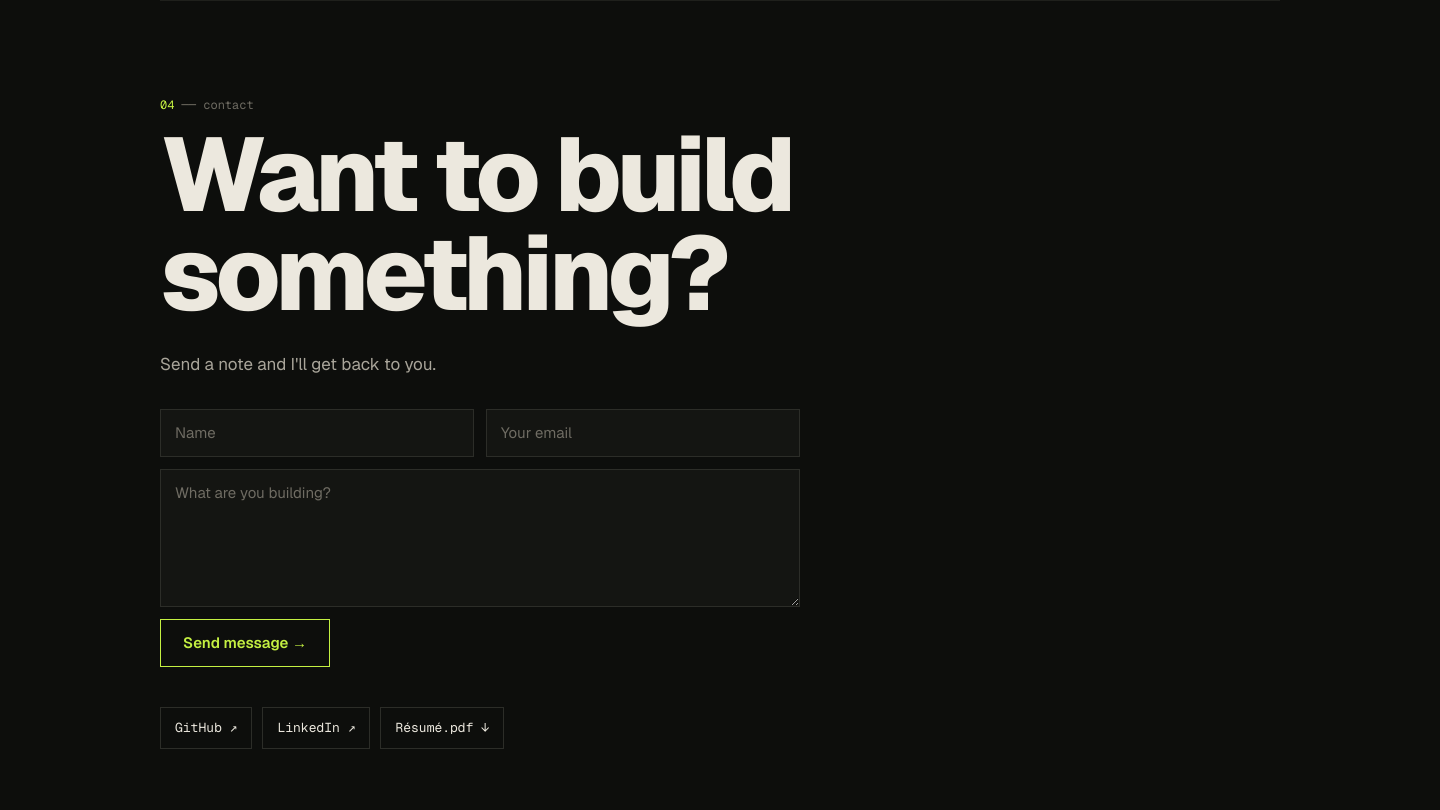
Scenario: Contact › keeps the message and says so when sending fails
Type "Ada" into the field labelled "Name" at point(317, 433), box x1=160 y1=409 x2=474 y2=457
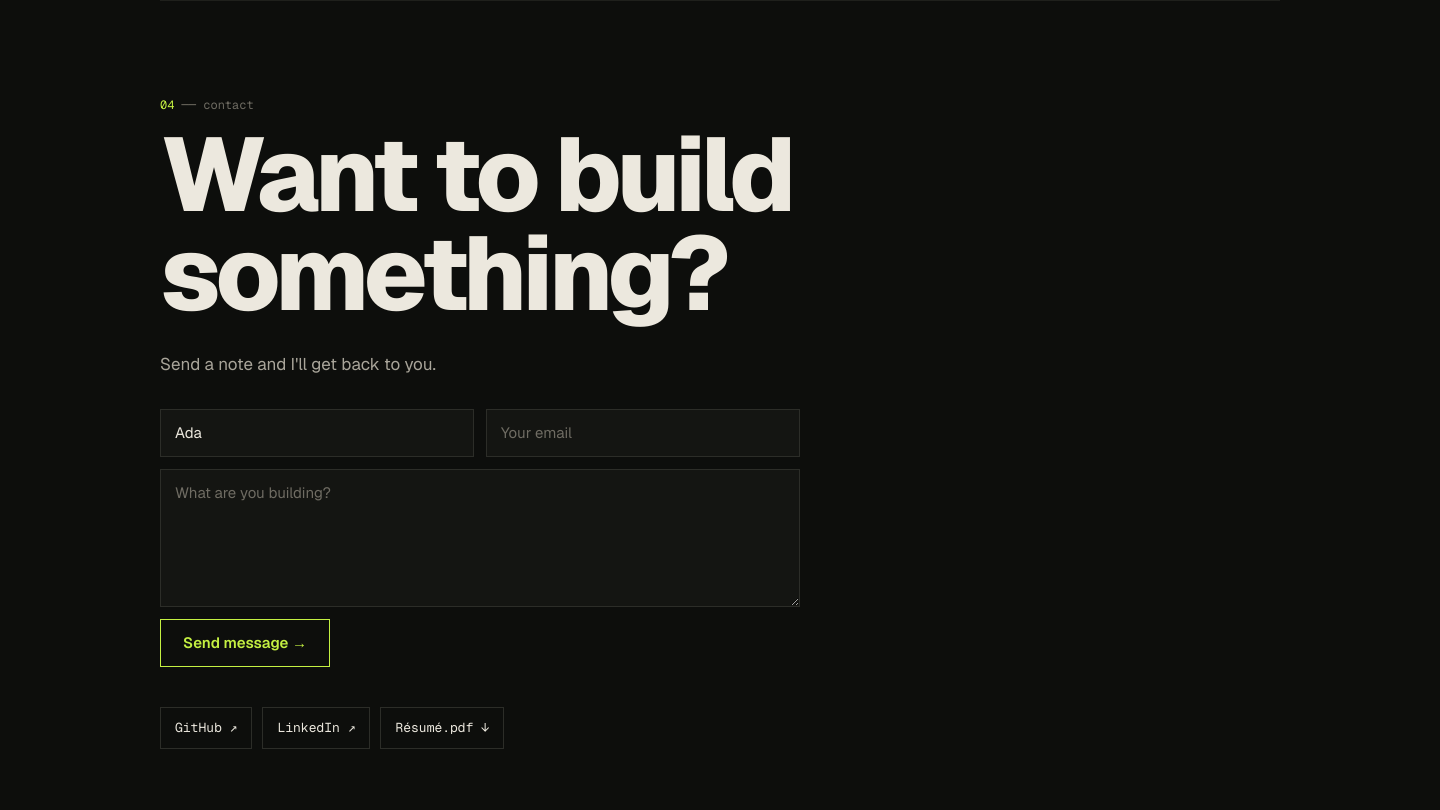
Type "ada@example.com" into the field labelled "Your email" at point(643, 433), box x1=486 y1=409 x2=800 y2=457
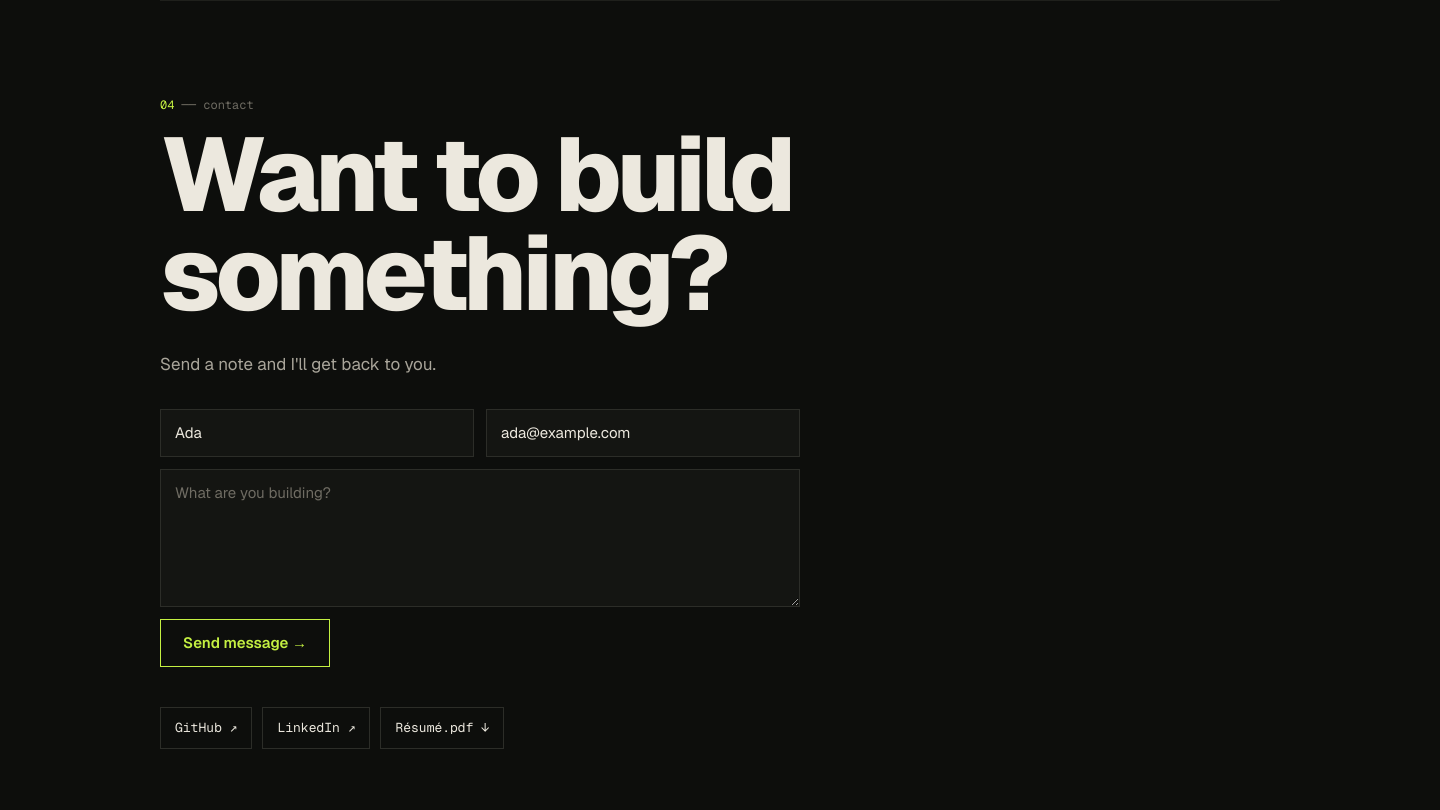
Type "Hello" into the text box named "Message" at point(480, 538), box x1=160 y1=469 x2=800 y2=607
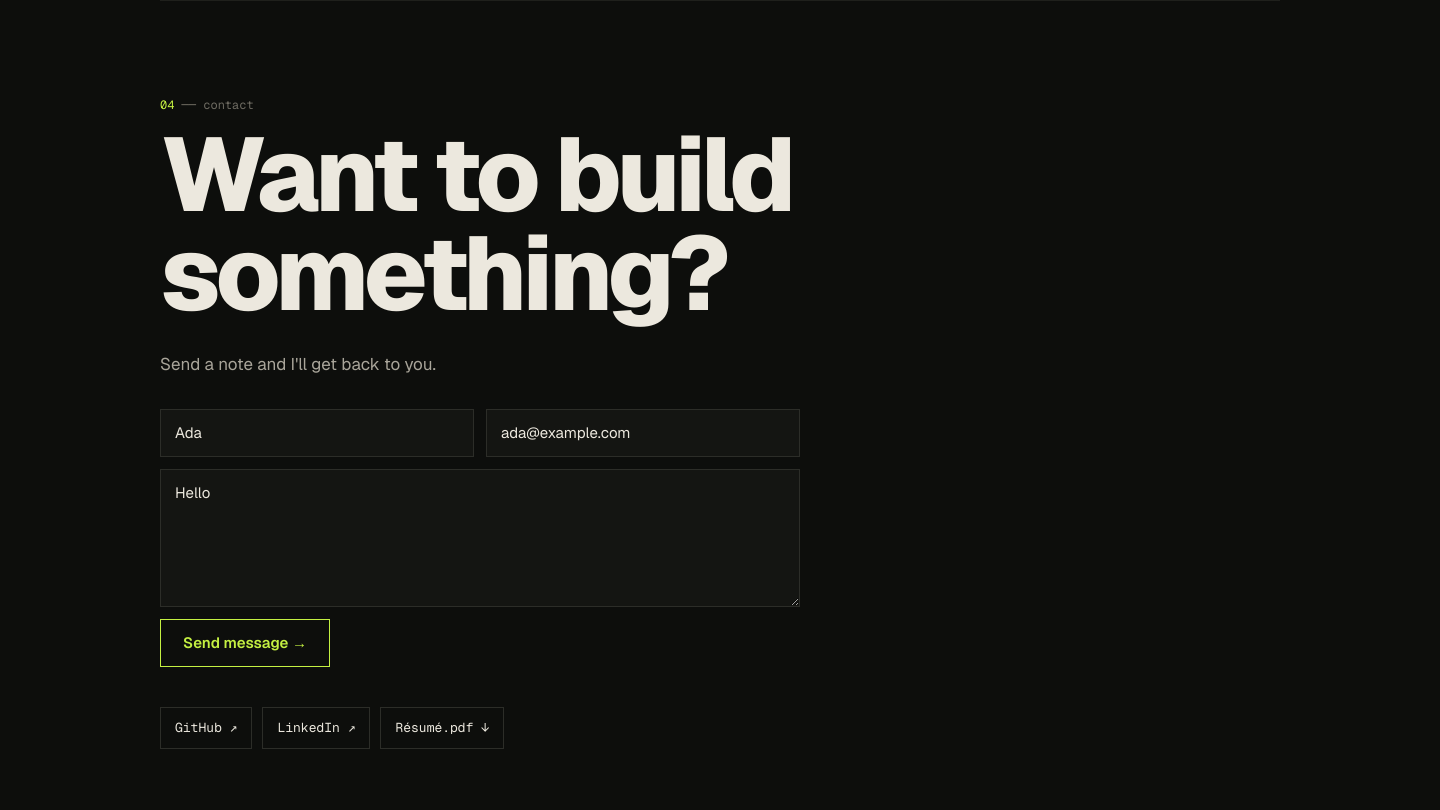
Click the button "Send message →" at point(245, 643), box x1=160 y1=619 x2=330 y2=667
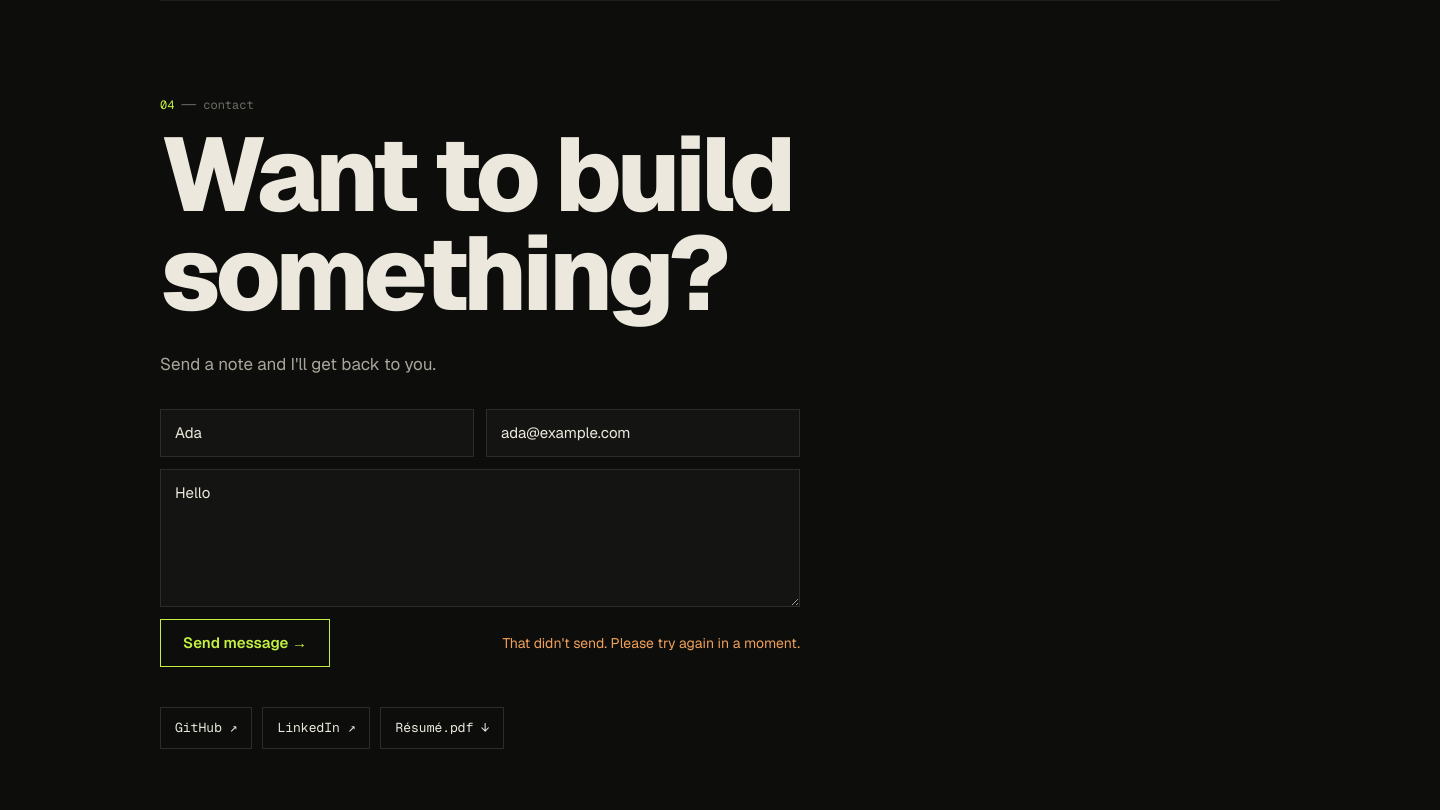
Result: the message shows "didn't send" at x1=502 y1=634 x2=800 y2=652
